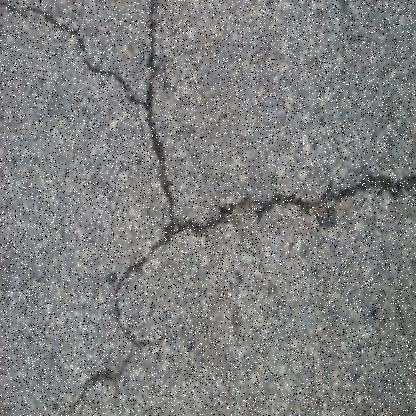Cracks: (111, 164, 415, 350), (0, 0, 178, 245), (55, 339, 137, 415)
